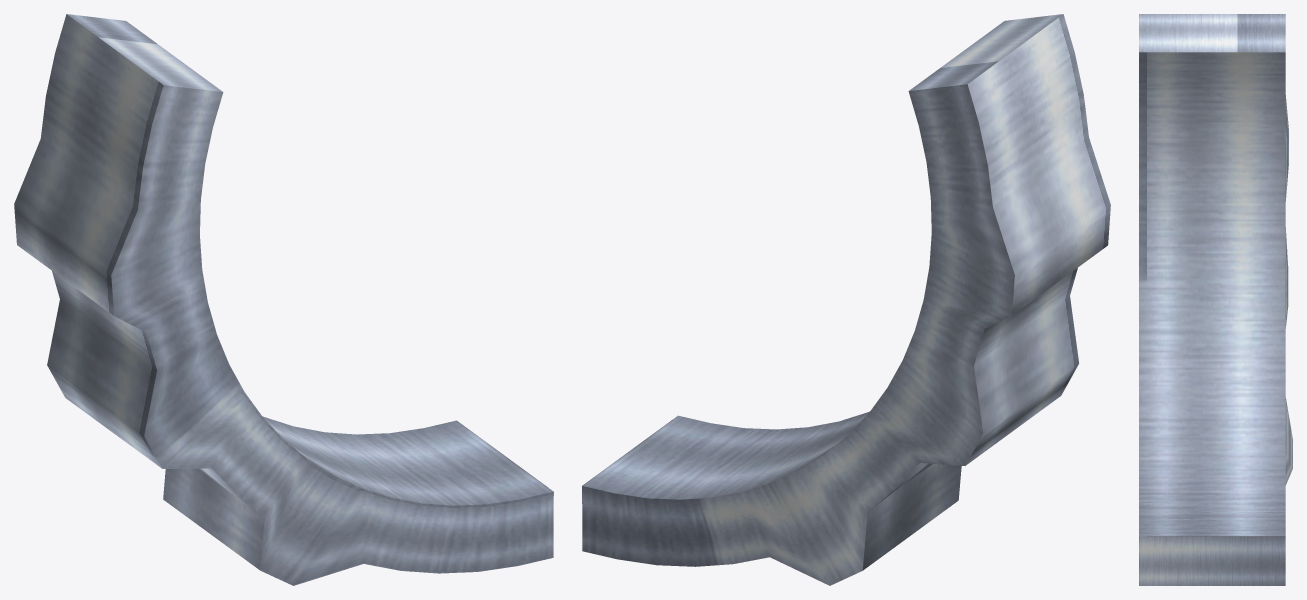
File: Beam.fbx
The picture shows the model from 3 angles, left to right: view 1: azimuth 30°, elevation 25°; view 2: azimuth 150°, elevation 25°; view 3: azimuth 270°, elevation 25°; orthographic projection. The views are drawn at different scales.
Parts seen in each view (by area): view 1: pCube1; view 2: pCube1; view 3: pCube1.
Part boxes in pixels (box(x1,y1,x2,y2)): pCube1: box(14, 14, 553, 585); pCube1: box(582, 14, 1110, 585); pCube1: box(1139, 14, 1292, 585).
Size of the model in its own units: 25.2 by 31.05 by 10.1.
Materials: 1 (1 with a texture image).
